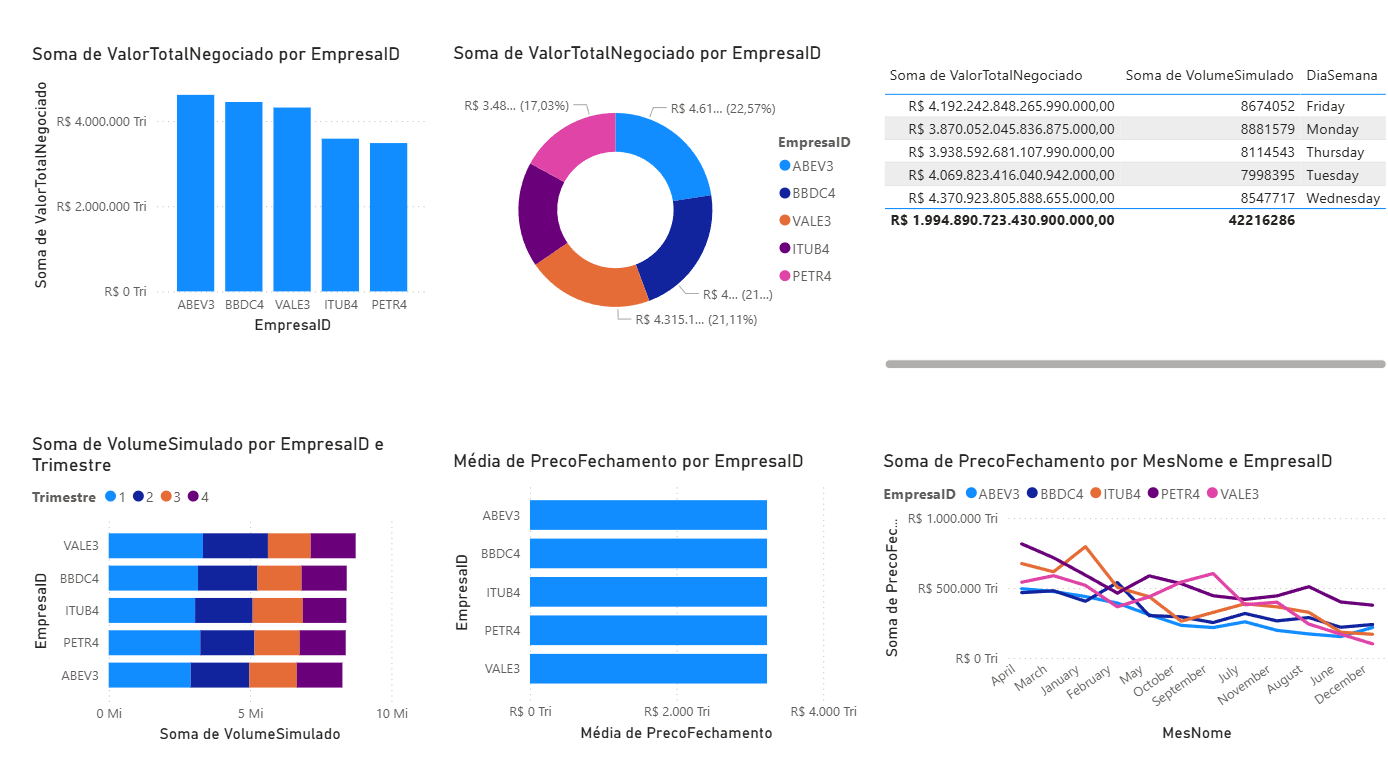

What the dashboard file says about the page in this screenshot:
{"tool":"powerbi","page":{"name":"Página 2","canvas":[1280,720],"ordinal":1},"visuals":[{"type":"barChart","fields":{"Y":["Sum(fato_vendas_bovespa.VolumeSimulado)"],"Category":["fato_vendas_bovespa.EmpresaID"],"Series":["dim_tempo.Trimestre"]},"box":[25.7,397.1,355.7,290],"z":0},{"type":"donutChart","fields":{"Y":["Sum(fato_vendas_bovespa.ValorTotalNegociado)"],"Category":["fato_vendas_bovespa.EmpresaID"]},"box":[413.1,38.2,394.7,291.4],"z":1000},{"type":"tableEx","fields":{"Values":["Sum(fato_vendas_bovespa.ValorTotalNegociado)","Sum(fato_vendas_bovespa.VolumeSimulado)","dim_tempo.DiaSemana"]},"box":[807.8,52.3,472.5,291.4],"z":2000},{"type":"barChart","fields":{"Category":["mn_setor_empresa.EmpresaID"],"Y":["Avg(fato_vendas_bovespa.PrecoFechamento)"]},"box":[412.9,414.3,381.4,272.9],"z":3000},{"type":"columnChart","fields":{"Category":["dim_empresa.EmpresaID"],"Y":["Sum(fato_vendas_bovespa.ValorTotalNegociado)"]},"box":[25.7,38.6,374.3,272.9],"z":4000},{"type":"lineChart","fields":{"Y":["Sum(fato_vendas_bovespa.PrecoFechamento)"],"Series":["dim_empresa.EmpresaID"],"Category":["dim_tempo.MesNome"]},"box":[808,414,472,273],"z":5000}]}

Visuals, with their boxes in screenshot pixels (x1, y1, x2, y2), scaled from the page's 1280x720 canvas onto the 1388x781 screenshot:
barChart - Sum(fato_vendas_bovespa.VolumeSimulado) x fato_vendas_bovespa.EmpresaID: {"x1": 28, "y1": 431, "x2": 414, "y2": 745}
donutChart - Sum(fato_vendas_bovespa.ValorTotalNegociado) x fato_vendas_bovespa.EmpresaID: {"x1": 448, "y1": 41, "x2": 876, "y2": 358}
tableEx - Sum(fato_vendas_bovespa.ValorTotalNegociado) x Sum(fato_vendas_bovespa.VolumeSimulado): {"x1": 876, "y1": 57, "x2": 1387, "y2": 373}
barChart - mn_setor_empresa.EmpresaID x Avg(fato_vendas_bovespa.PrecoFechamento): {"x1": 448, "y1": 449, "x2": 861, "y2": 745}
columnChart - dim_empresa.EmpresaID x Sum(fato_vendas_bovespa.ValorTotalNegociado): {"x1": 28, "y1": 42, "x2": 434, "y2": 338}
lineChart - Sum(fato_vendas_bovespa.PrecoFechamento) x dim_empresa.EmpresaID: {"x1": 876, "y1": 449, "x2": 1387, "y2": 745}
